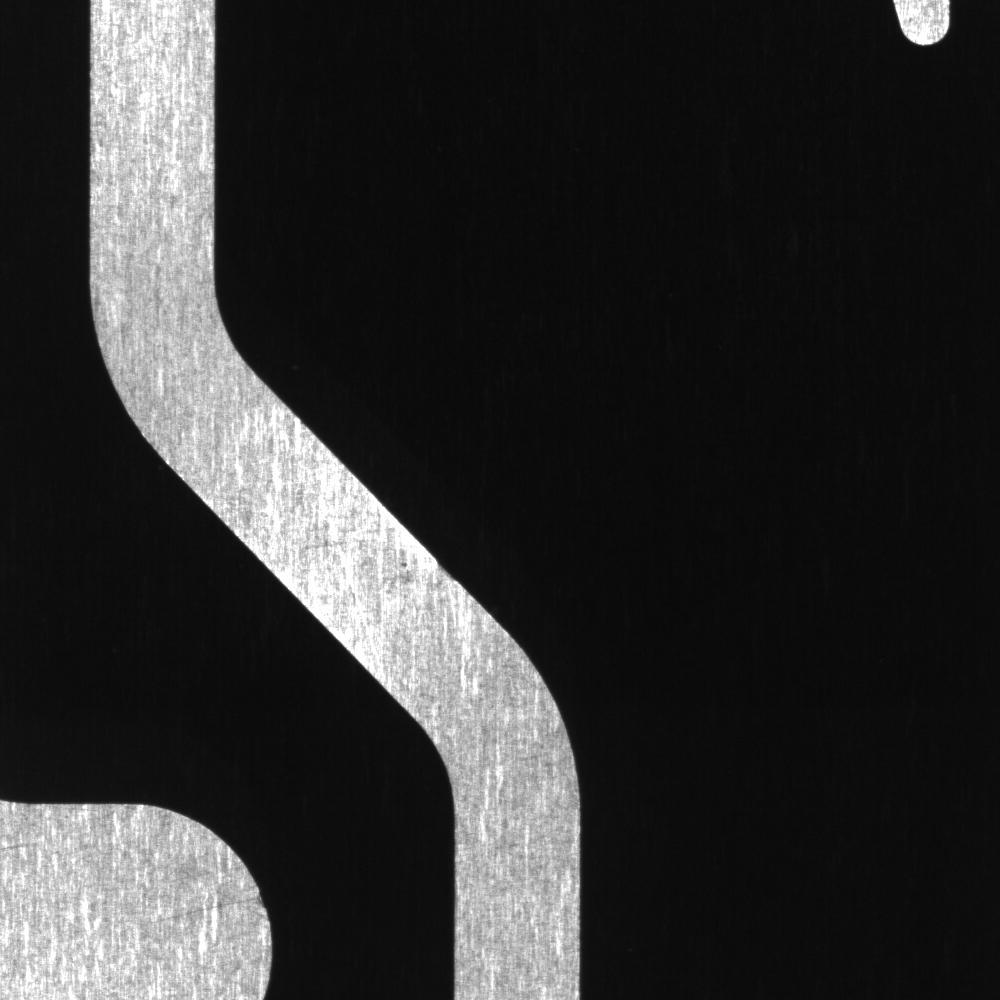Scar: (116, 886, 262, 934), (288, 525, 402, 555), (1, 829, 76, 854)
